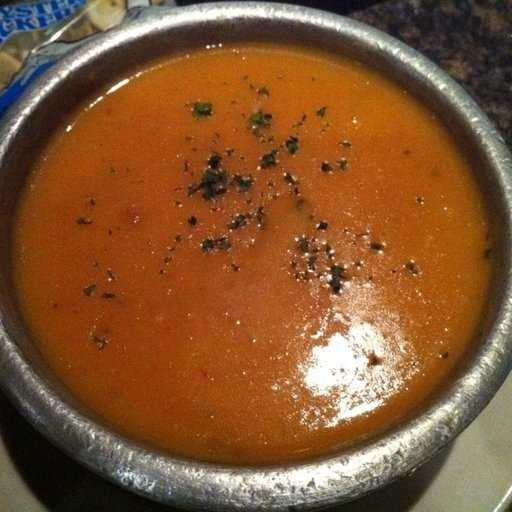soup: (9, 33, 486, 481)
